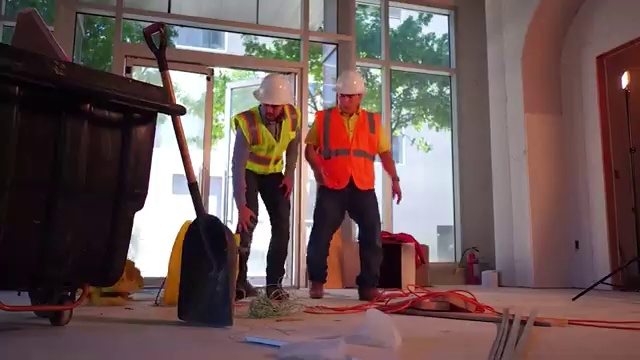helmet: (247, 68, 299, 107), (327, 71, 375, 91)
jacket: (312, 106, 400, 190), (231, 108, 299, 179)
